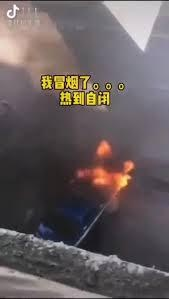fire: (75, 141, 136, 195)
